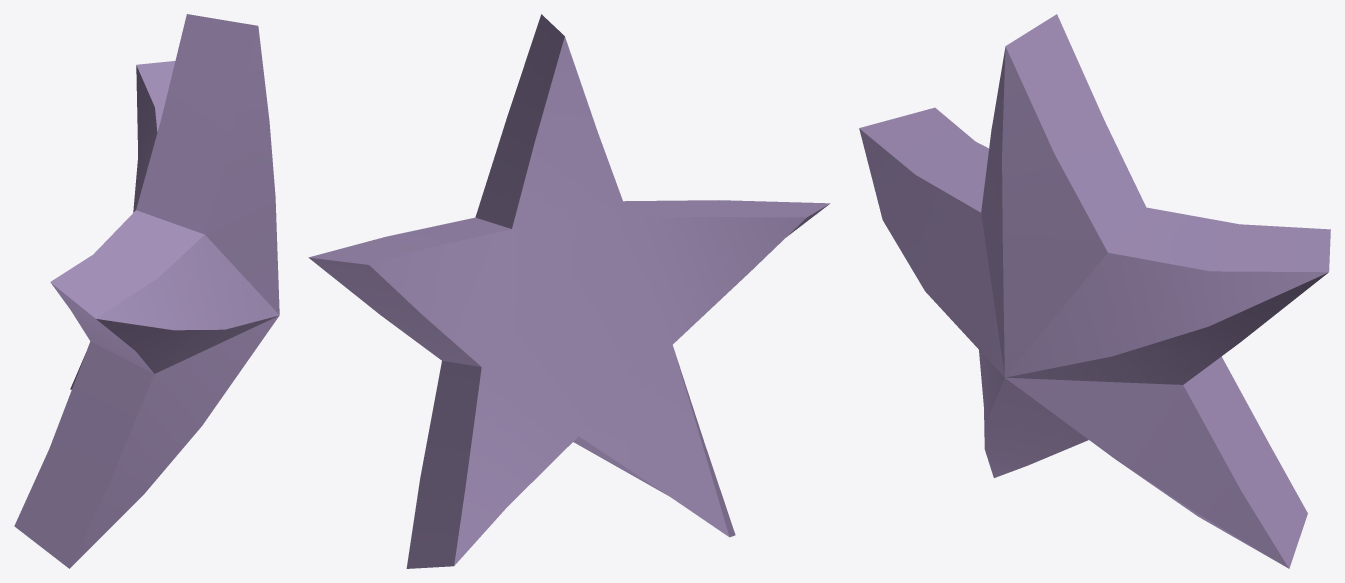
Rendered from TR3_Frame_Star.001 3.glb.
3 renders of one model, left to right at view 1: azimuth 30°, elevation 25°; view 2: azimuth 150°, elevation 25°; view 3: azimuth 270°, elevation 25°, orthographic. The views are drawn at different scales.
Visible parts, largest first — view 1: TR3_Frame_Star.001; view 2: TR3_Frame_Star.001; view 3: TR3_Frame_Star.001.
Boxes of the visible parts, box(x1,y1,x2,y2) form: TR3_Frame_Star.001: box(14, 14, 279, 568); TR3_Frame_Star.001: box(308, 14, 830, 568); TR3_Frame_Star.001: box(859, 14, 1330, 568).
Size of the model in its own units: 0.3813 by 0.5477 by 0.432.
